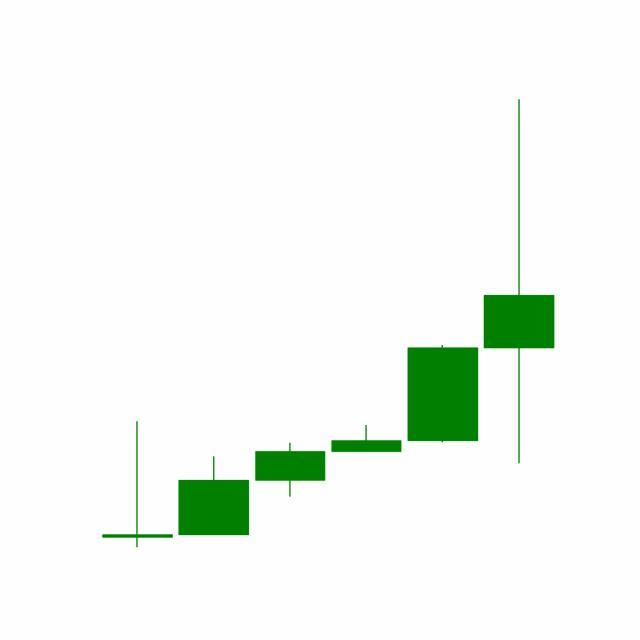Marubozu: (404, 344, 482, 445)
